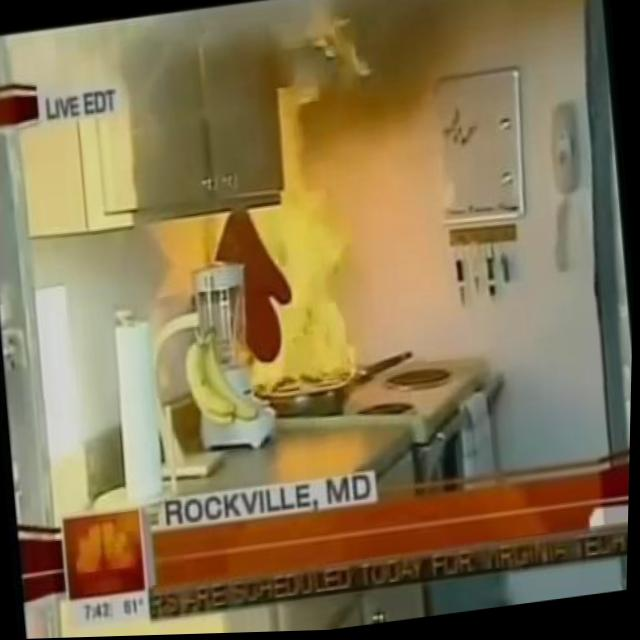fire: (200, 77, 381, 404)
